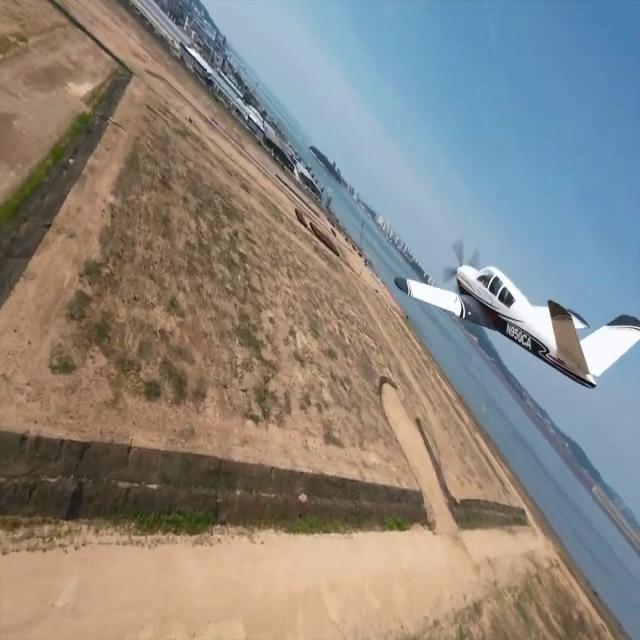iha: (392, 244, 634, 378)
